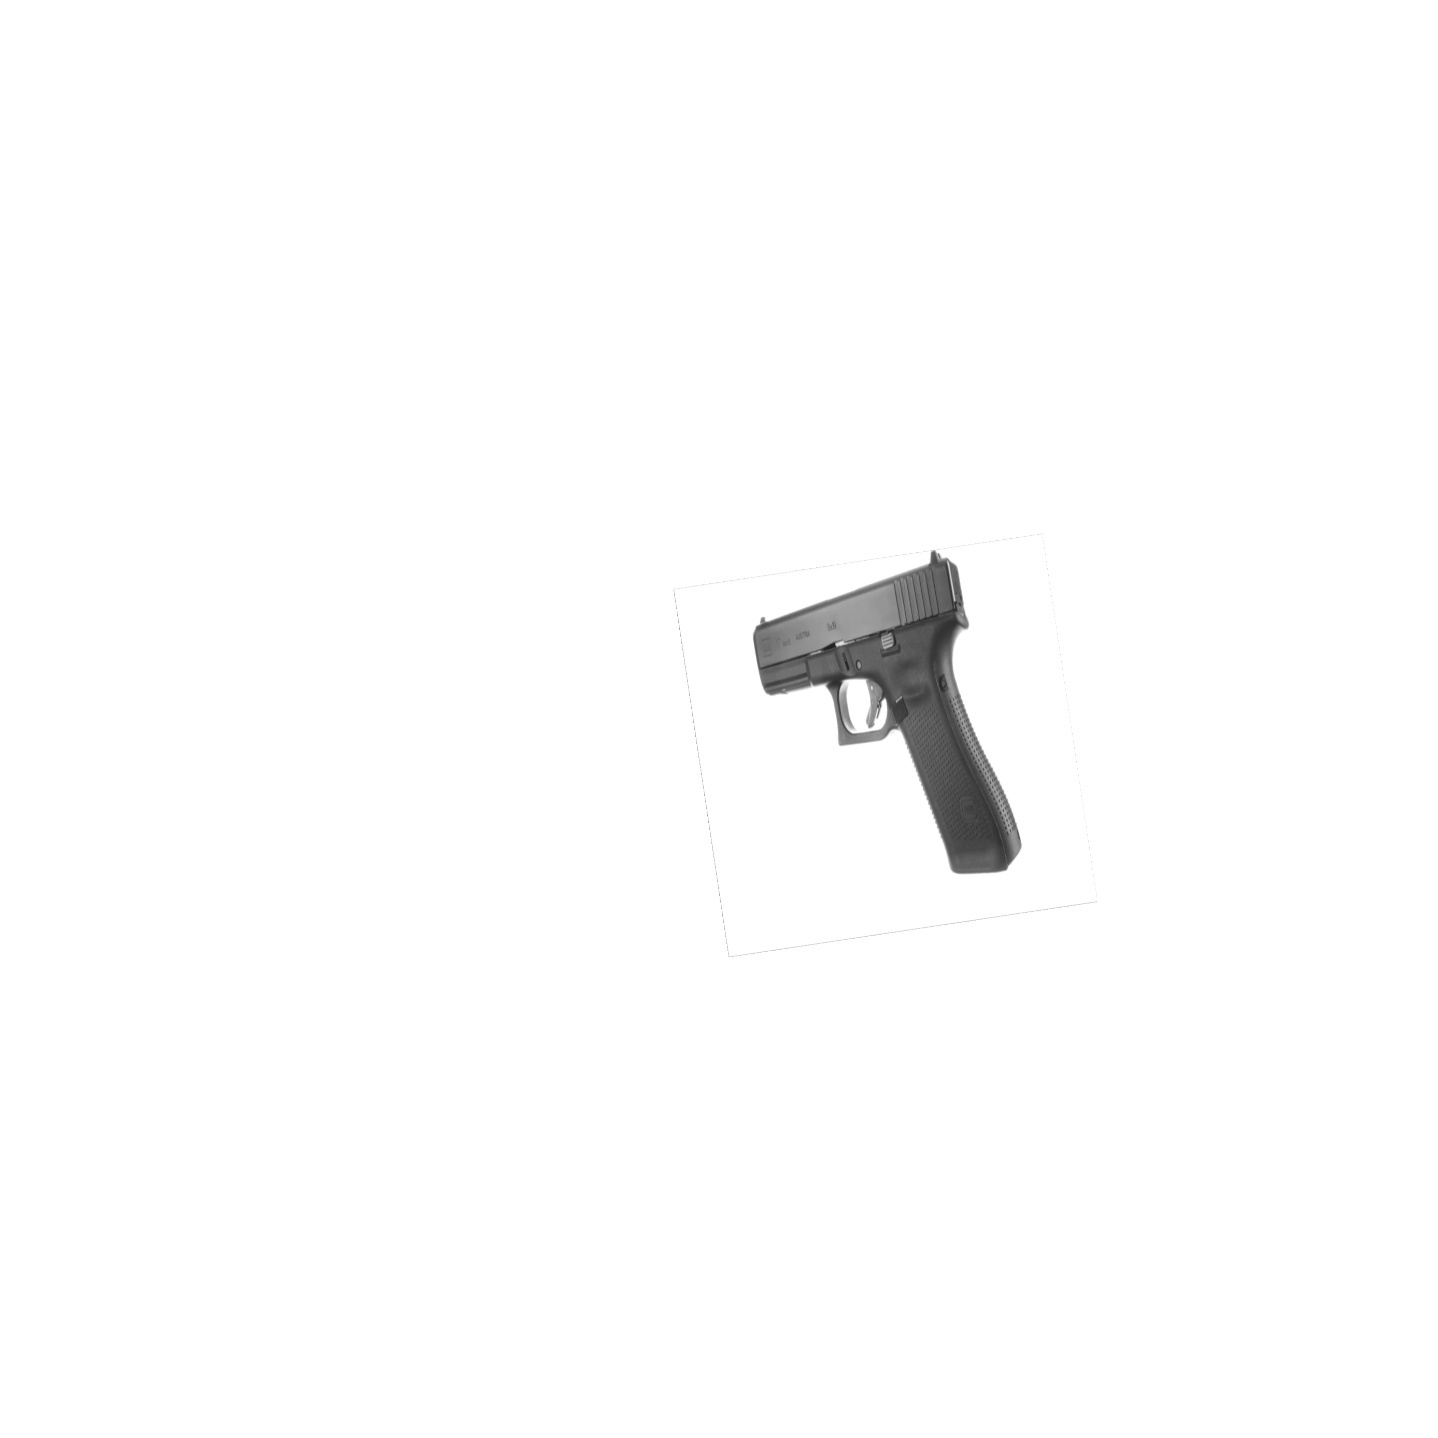gun: (752, 549, 1025, 874)
